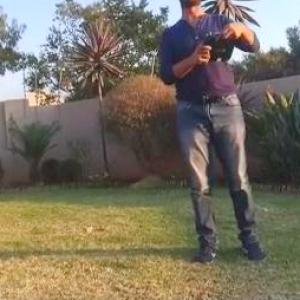follow: (154, 0, 272, 268)
